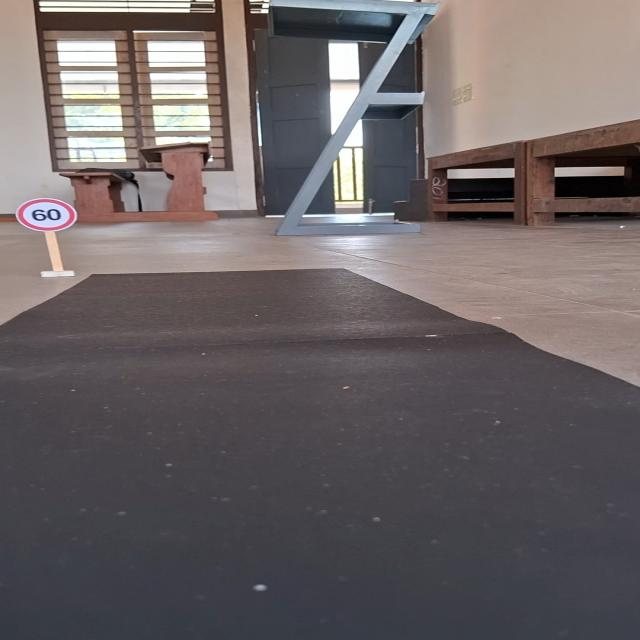Speed60: (13, 197, 79, 233)
